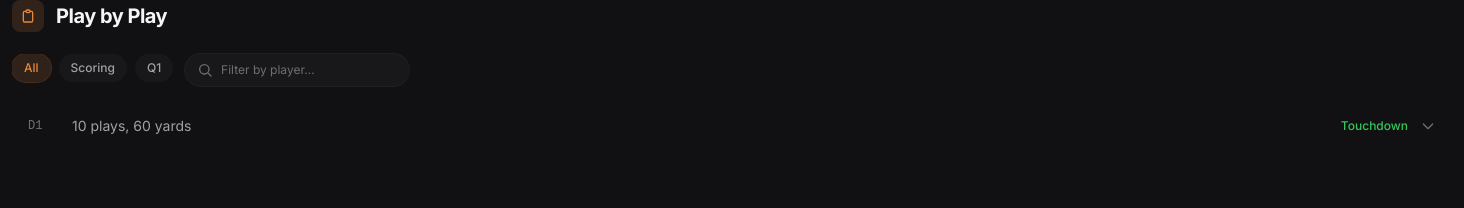
Test: PlayByPlay › NFL drives › collapses drive when clicked again
Click the text "10 plays, 60 yards": x=132, y=126 [72,117,191,134]
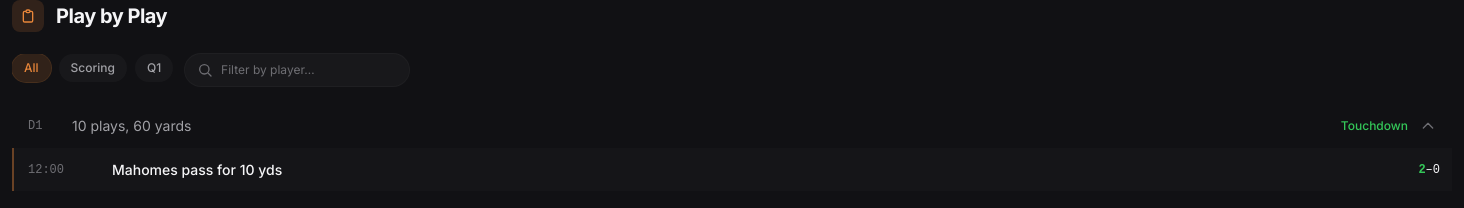
Click the text "10 plays, 60 yards": x=132, y=126 [72,117,191,134]
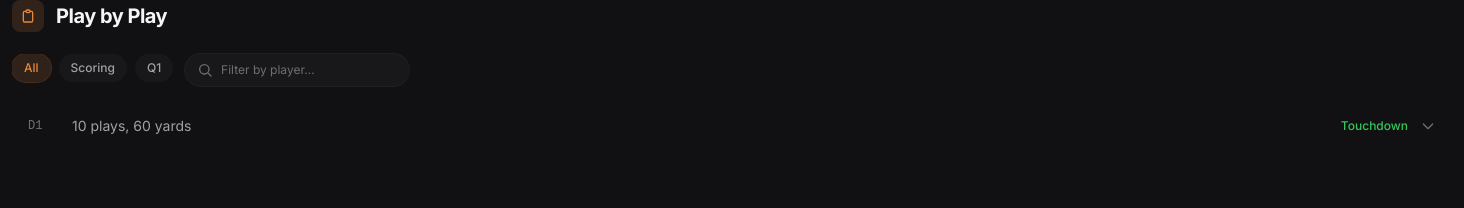
Expected: the text "Mahomes pass for 10 yds" is gone
